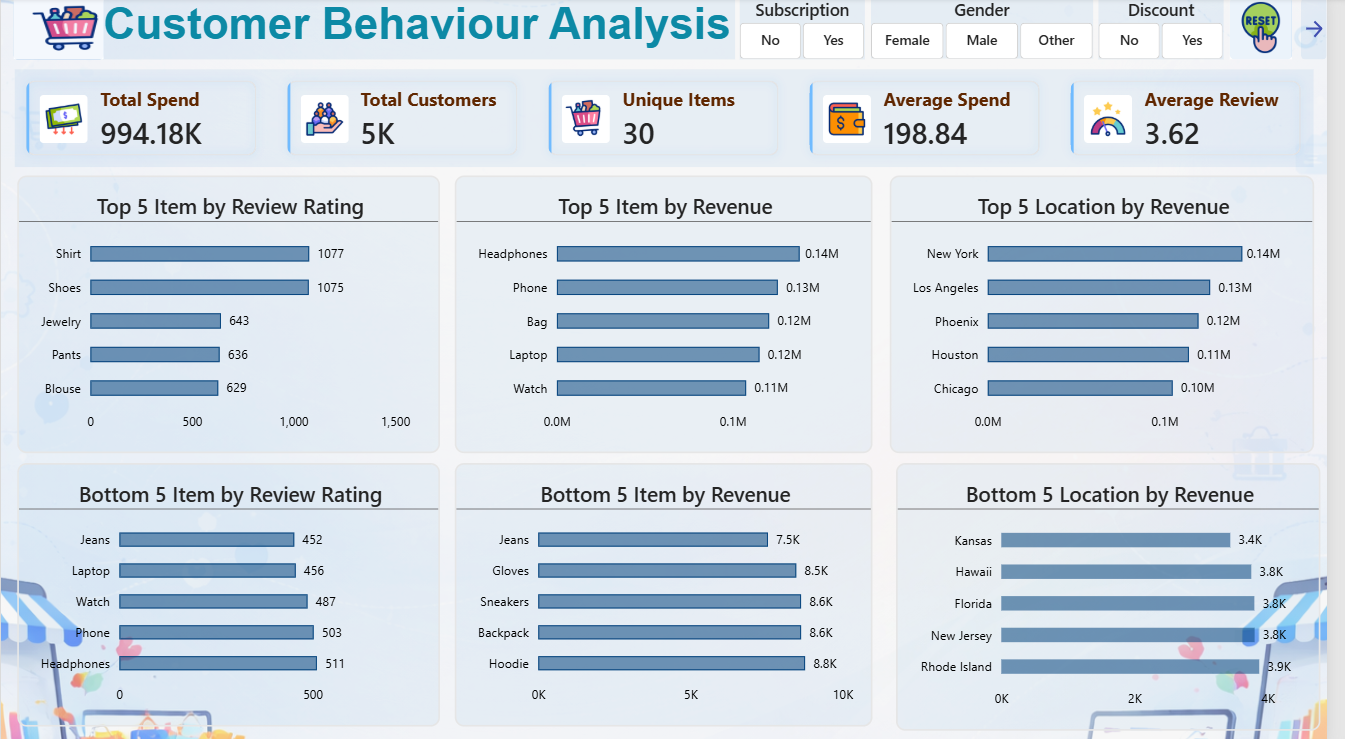

The page's visual inventory and layout, read from the dashboard file:
{"tool":"powerbi","page":{"name":"Performance","canvas":[1280,720],"ordinal":1},"visuals":[{"type":"columnChart","title":"Revenue by Payment","fields":{"Category":["customer_behaviour_analysis.payment_method"],"Y":["Sum(customer_behaviour_analysis.purchase_amount)"]},"box":[1301.1,427.1,352.9,251.5],"z":0},{"type":"barChart","title":"Bottom 5 Item by Review Rating ","fields":{"Y":["Sum(customer_behaviour_analysis.review_rating)"],"Category":["customer_behaviour_analysis.item_purchased"]},"box":[16.1,449.3,408.4,254.5],"z":1000},{"type":"barChart","title":"Top 5 Item by Review Rating ","fields":{"Y":["Sum(customer_behaviour_analysis.review_rating)"],"Category":["customer_behaviour_analysis.item_purchased"]},"box":[16.1,171.3,408.4,268.1],"z":2000},{"type":"barChart","title":"Top 5 Item by Revenue","fields":{"Y":["Sum(customer_behaviour_analysis.purchase_amount)"],"Category":["customer_behaviour_analysis.item_purchased"]},"box":[438.2,171.3,403.4,268.1],"z":3000},{"type":"barChart","title":"Bottom 5 Item by Revenue","fields":{"Y":["Sum(customer_behaviour_analysis.purchase_amount)"],"Category":["customer_behaviour_analysis.item_purchased"]},"box":[438.2,449.3,403.4,254.5],"z":4000},{"type":"barChart","title":"Top 5 Location by Revenue","fields":{"Y":["Sum(customer_behaviour_analysis.purchase_amount)"],"Category":["customer_behaviour_analysis.location"]},"box":[857.7,171.3,409.6,268.1],"z":5000},{"type":"barChart","title":"Bottom 5 Location by Revenue","fields":{"Y":["Sum(customer_behaviour_analysis.purchase_amount)"],"Category":["customer_behaviour_analysis.location"]},"box":[863.9,449.3,409.6,258.2],"z":6000},{"type":"cardVisual","fields":{"Data":["customer_behaviour_analysis.Total Spend","customer_behaviour_analysis.Total Customers","customer_behaviour_analysis.Unique Items","customer_behaviour_analysis.Average Spend","customer_behaviour_analysis.Average Review"]},"box":[13.7,68.3,1253.7,94.3],"z":7000},{"type":"actionButton","box":[12.4,0,86.9,59.6],"z":8000},{"type":"textbox","box":[99.3,0,609.5,59.6],"z":9000},{"type":"advancedSlicerVisual","title":"Gender","fields":{"Values":["customer_behaviour_analysis.gender"]},"box":[840,0,214,58.7],"z":10000},{"type":"advancedSlicerVisual","title":"Subscription","fields":{"Values":["customer_behaviour_analysis.subscription_status"]},"box":[713,0,120.6,59.1],"z":11000},{"type":"actionButton","box":[1185.9,0,60.3,59.1],"z":12000},{"type":"actionButton","box":[1254.9,0,24.8,59.6],"z":13000},{"type":"advancedSlicerVisual","title":"Discount","fields":{"Values":["customer_behaviour_analysis.discount_applied"]},"box":[1059,0,120.6,59.1],"z":14000}]}

Visuals, with their boxes in screenshot pixels (x1, y1, x2, y2), scaled from the page's 1280x720 canvas onto the 1345x739 screenshot:
"Bottom 5 Item by Review Rating " barChart: <region>17, 461, 446, 722</region>
"Top 5 Item by Review Rating " barChart: <region>17, 176, 446, 451</region>
"Top 5 Item by Revenue" barChart: <region>460, 176, 884, 451</region>
"Bottom 5 Item by Revenue" barChart: <region>460, 461, 884, 722</region>
"Top 5 Location by Revenue" barChart: <region>901, 176, 1332, 451</region>
"Bottom 5 Location by Revenue" barChart: <region>908, 461, 1338, 726</region>
cardVisual - customer_behaviour_analysis.Total Spend x customer_behaviour_analysis.Total Customers: <region>14, 70, 1332, 167</region>
actionButton: <region>13, 0, 104, 61</region>
textbox: <region>104, 0, 745, 61</region>
"Gender" advancedSlicerVisual: <region>883, 0, 1108, 60</region>
"Subscription" advancedSlicerVisual: <region>749, 0, 876, 61</region>
actionButton: <region>1246, 0, 1309, 61</region>
actionButton: <region>1319, 0, 1344, 61</region>
"Discount" advancedSlicerVisual: <region>1113, 0, 1240, 61</region>
